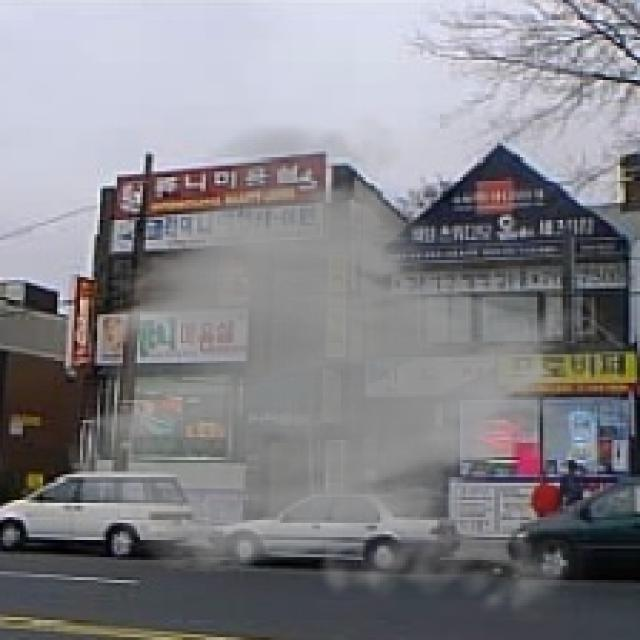smoke: (63, 111, 623, 628)
